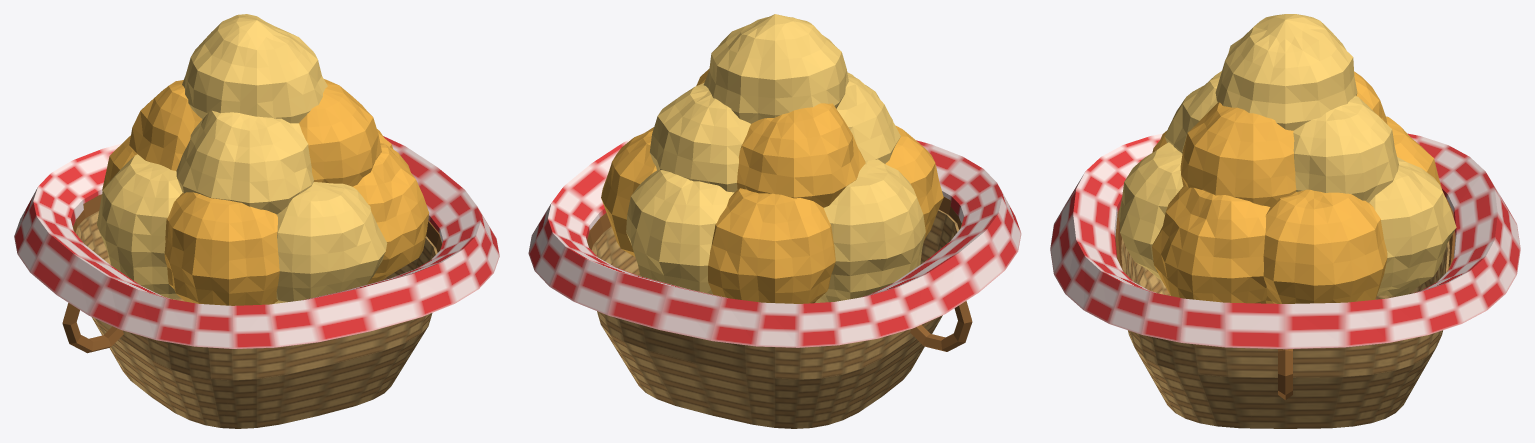
The model's file is pao_de_queijo.obj.
The picture shows the model from 3 angles, left to right: view 1: azimuth 30°, elevation 25°; view 2: azimuth 150°, elevation 25°; view 3: azimuth 270°, elevation 25°; orthographic projection.
Parts seen in each view (by area): view 1: B_Cloth.001_pao_cloth, A_Basket.001_pao_wicker, P_Puff11.001_pao_puff_pale, P_Puff4.001_pao_puff, P_Puff9.001_pao_puff_pale, P_Puff5.001_pao_puff_pale, P_Puff3.001_pao_puff_pale, P_Puff10.001_pao_puff, P_Puff6.001_pao_puff, P_Puff8.001_pao_puff, A_HandleL.001_pao_rim, A_Rim.001_pao_rim (+1 smaller); view 2: B_Cloth.001_pao_cloth, A_Basket.001_pao_wicker, P_Puff2.001_pao_puff, P_Puff11.001_pao_puff_pale, P_Puff3.001_pao_puff_pale, P_Puff8.001_pao_puff, P_Puff1.001_pao_puff_pale, P_Puff7.001_pao_puff_pale, P_Puff0.001_pao_puff, P_Puff9.001_pao_puff_pale, P_Puff4.001_pao_puff, A_HandleL.001_pao_rim (+1 smaller); view 3: B_Cloth.001_pao_cloth, A_Basket.001_pao_wicker, P_Puff0.001_pao_puff, P_Puff11.001_pao_puff_pale, P_Puff6.001_pao_puff, P_Puff10.001_pao_puff, P_Puff7.001_pao_puff_pale, P_Puff1.001_pao_puff_pale, P_Puff5.001_pao_puff_pale, P_Puff9.001_pao_puff_pale, P_Puff2.001_pao_puff, A_HandleR.001_pao_rim (+2 smaller).
Part boxes in pixels (x1,y1,x2,y2): B_Cloth.001_pao_cloth: (14, 136, 499, 348); A_Basket.001_pao_wicker: (75, 211, 437, 428); P_Puff11.001_pao_puff_pale: (182, 14, 327, 123); P_Puff4.001_pao_puff: (164, 192, 279, 305); P_Puff9.001_pao_puff_pale: (176, 110, 313, 214); P_Puff5.001_pao_puff_pale: (274, 182, 387, 303); P_Puff3.001_pao_puff_pale: (97, 154, 182, 299); P_Puff10.001_pao_puff: (299, 79, 381, 186); P_Puff6.001_pao_puff: (353, 143, 428, 284); P_Puff8.001_pao_puff: (129, 80, 202, 170); A_HandleL.001_pao_rim: (62, 303, 123, 353); A_Rim.001_pao_rim: (72, 194, 442, 252); B_Cloth.001_pao_cloth: (528, 132, 1021, 347); A_Basket.001_pao_wicker: (591, 209, 958, 428); P_Puff2.001_pao_puff: (708, 188, 835, 303); P_Puff11.001_pao_puff_pale: (703, 14, 848, 123); P_Puff3.001_pao_puff_pale: (816, 159, 925, 302); P_Puff8.001_pao_puff: (737, 103, 865, 207); P_Puff1.001_pao_puff_pale: (626, 170, 734, 294); P_Puff7.001_pao_puff_pale: (649, 82, 750, 192); P_Puff0.001_pao_puff: (601, 127, 656, 256); P_Puff9.001_pao_puff_pale: (836, 72, 900, 163); P_Puff4.001_pao_puff: (885, 125, 943, 240); A_HandleL.001_pao_rim: (910, 301, 972, 351); B_Cloth.001_pao_cloth: (1050, 133, 1520, 349); A_Basket.001_pao_wicker: (1121, 238, 1449, 428); P_Puff0.001_pao_puff: (1263, 189, 1387, 303); P_Puff11.001_pao_puff_pale: (1215, 14, 1357, 130); P_Puff6.001_pao_puff: (1152, 186, 1270, 303); P_Puff10.001_pao_puff: (1180, 102, 1296, 206); P_Puff7.001_pao_puff_pale: (1293, 95, 1398, 202); P_Puff1.001_pao_puff_pale: (1369, 157, 1456, 296); P_Puff5.001_pao_puff_pale: (1118, 142, 1183, 280); P_Puff9.001_pao_puff_pale: (1164, 71, 1221, 153); P_Puff2.001_pao_puff: (1386, 116, 1441, 188); A_HandleR.001_pao_rim: (1278, 349, 1292, 399).
Size of the model in its own units: 2.73 by 2.29 by 2.73.
